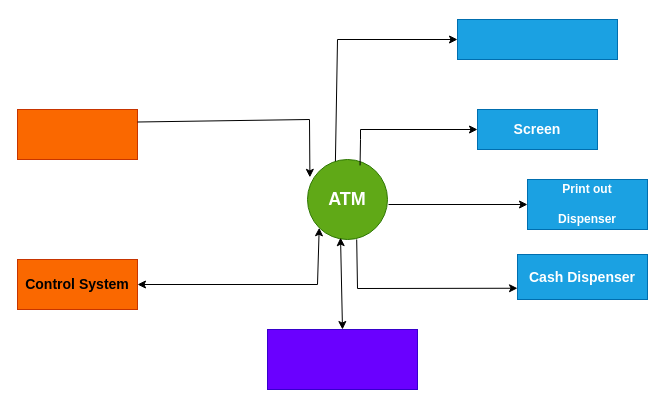
Image size: 665x407. Some labels were removed from this diagram. Each missing label, with the centre of its shape:
Account Database: the point at 537,39
Card Reader: the point at 342,359
Customer keypad: the point at 77,134
